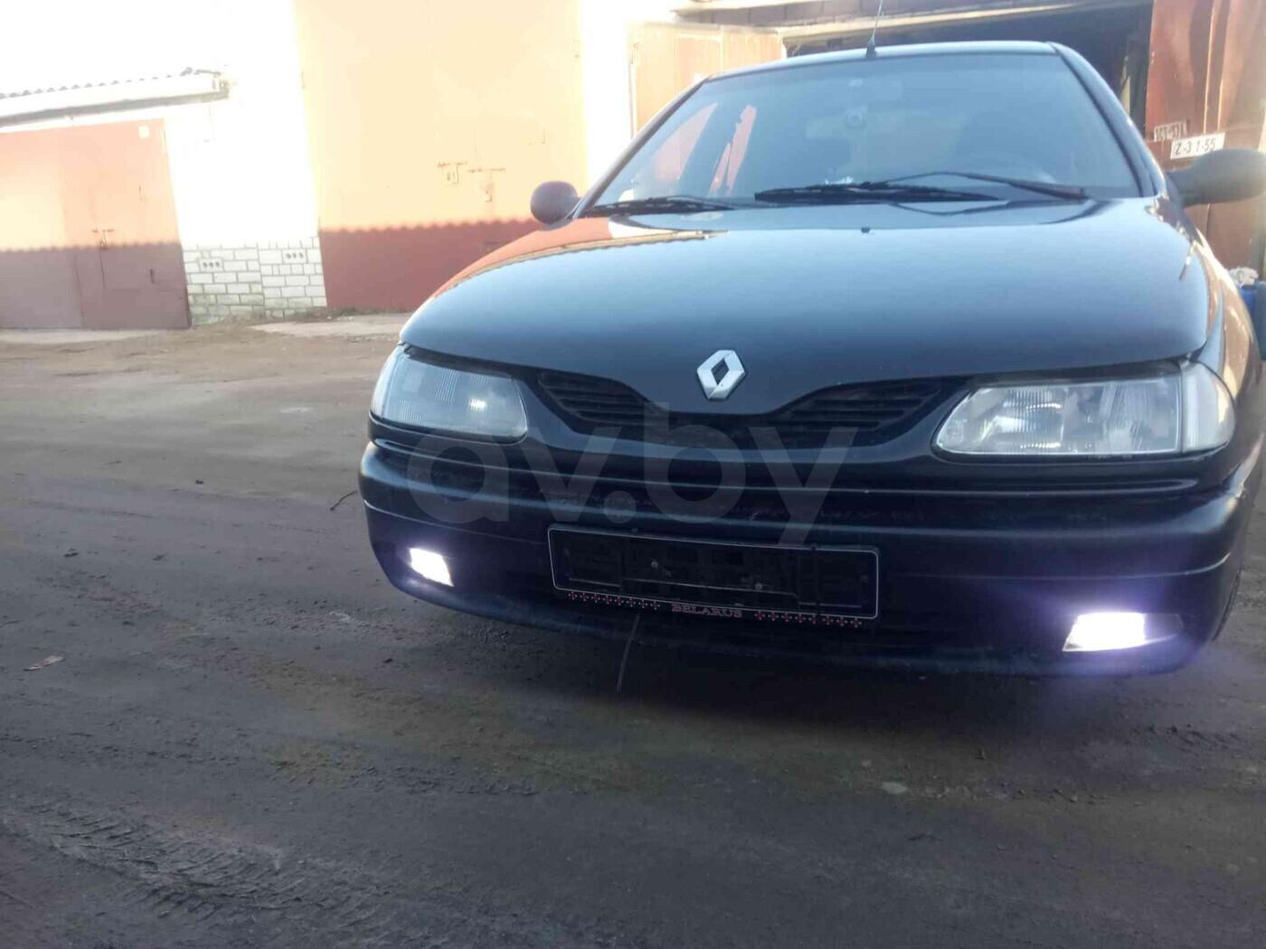Lahuna_1993-1999: (354, 35, 1266, 701)
